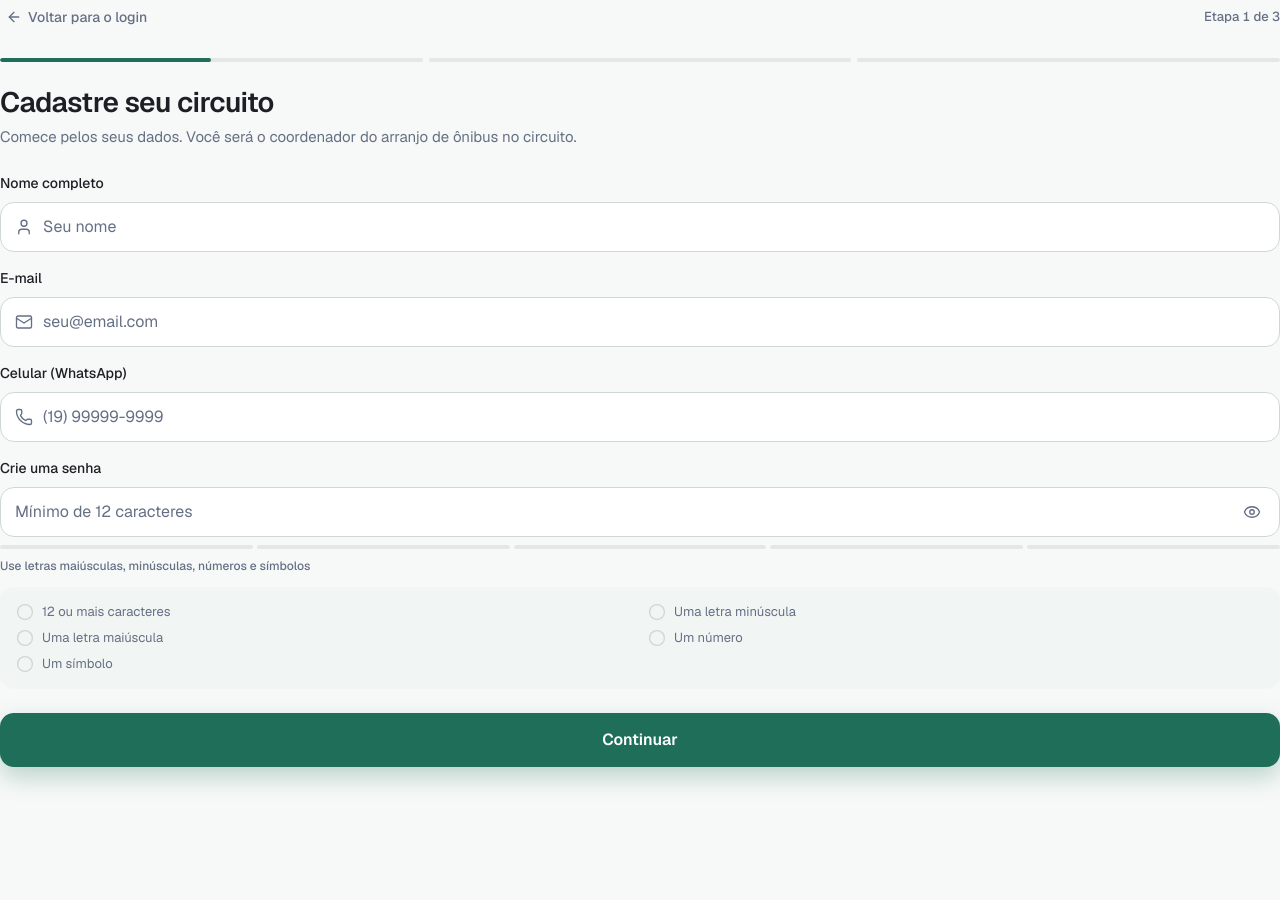
Test: SignupFlow › validação por etapa › não deve avançar com a etapa 1 vazia
This screenshot has width=1280, height=900.
Click the button "Continuar" at (640, 740), box [0, 713, 1279, 767]
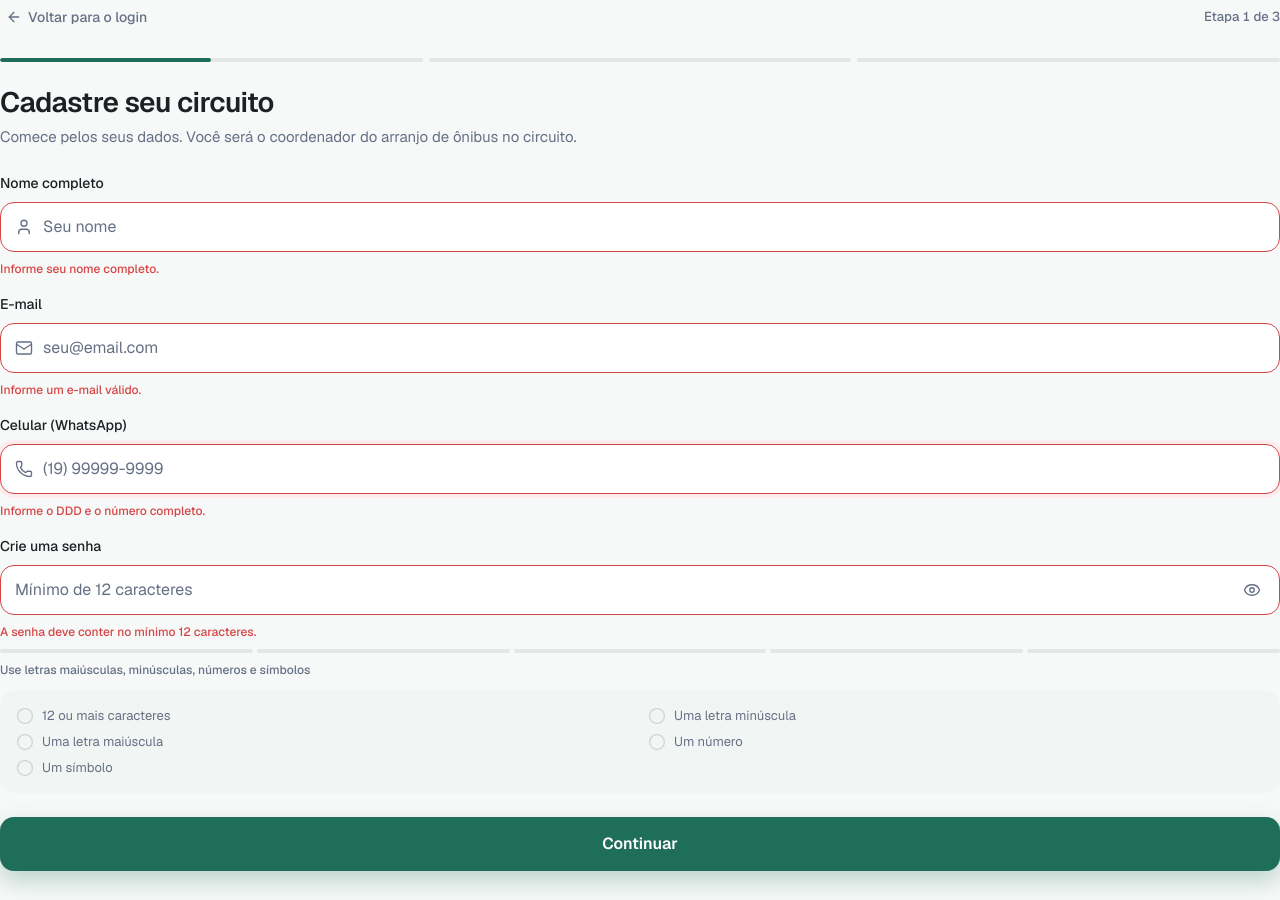
Check: the text "Etapa 1 de 3" is shown, box [1204, 7, 1279, 27]
Check: the text "Informe seu nome completo." is shown, box [0, 261, 159, 277]
